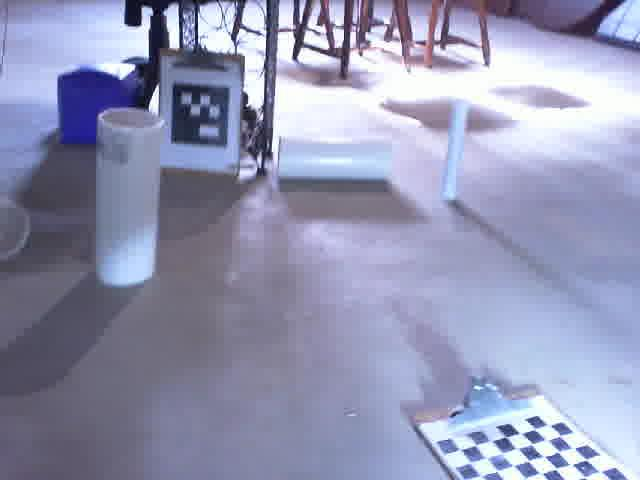coral: (90, 105, 168, 295), (272, 130, 398, 188), (0, 188, 37, 266)
